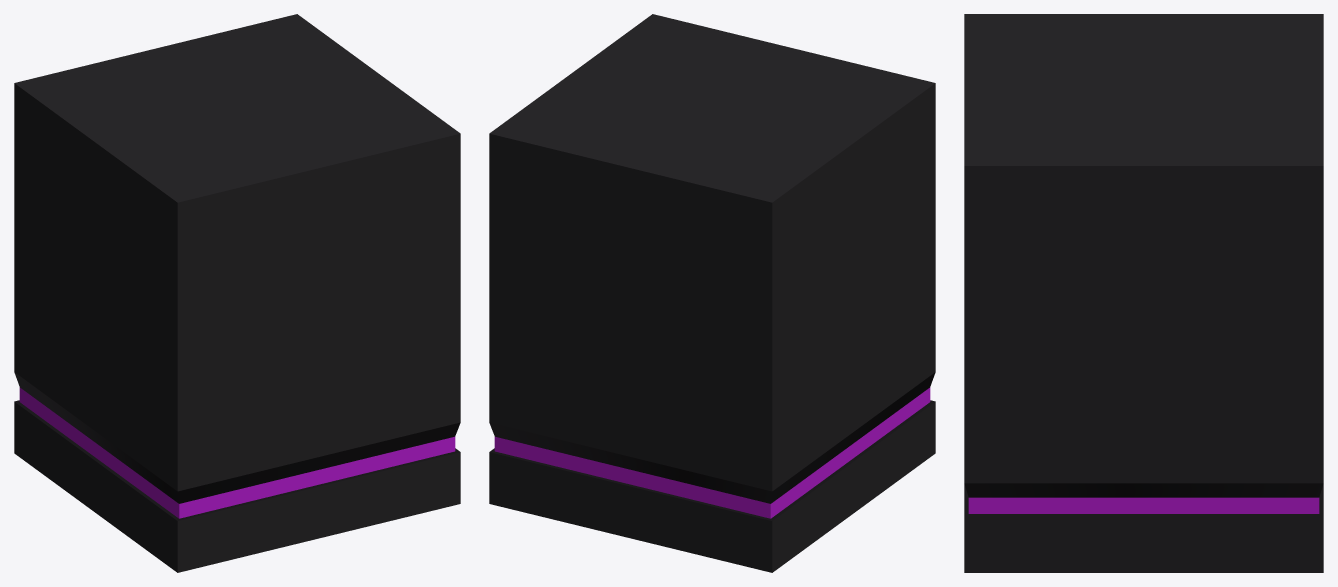
Rendered from Pillar_Large.fbx.
3 views of the same model, side by side, from view 1: azimuth 30°, elevation 25°; view 2: azimuth 150°, elevation 25°; view 3: azimuth 270°, elevation 25° (orthographic). The views are drawn at different scales.
Visible parts, largest first — view 1: Pillar_Large1; view 2: Pillar_Large1; view 3: Pillar_Large1.
Part boxes in pixels (x1,y1,x2,y2): Pillar_Large1: [14, 14, 460, 572]; Pillar_Large1: [489, 14, 935, 572]; Pillar_Large1: [964, 14, 1323, 572].
Bounding box in the file's own units: 400 × 500 × 400.
